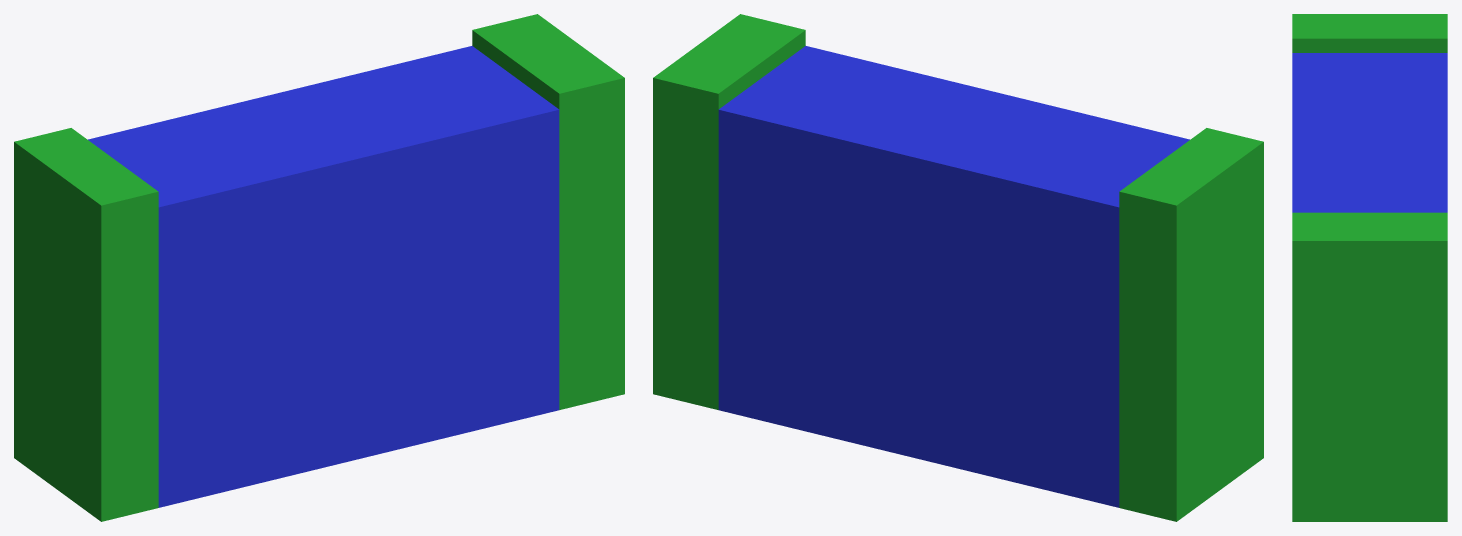
Rendered from module-edge_river_001.glb.
The picture shows the model from 3 angles, left to right: view 1: azimuth 30°, elevation 25°; view 2: azimuth 150°, elevation 25°; view 3: azimuth 270°, elevation 25°; orthographic projection. The views are drawn at different scales.
Parts seen in each view (by area): view 1: module-edge_river_001; view 2: module-edge_river_001; view 3: module-edge_river_001.
Boxes of the visible parts, x1,y1,x2,y2 form: module-edge_river_001: (14,14,624,521); module-edge_river_001: (653,14,1263,521); module-edge_river_001: (1292,14,1447,521).
Size of the model in its own units: 0.866 by 0.5 by 0.25.
